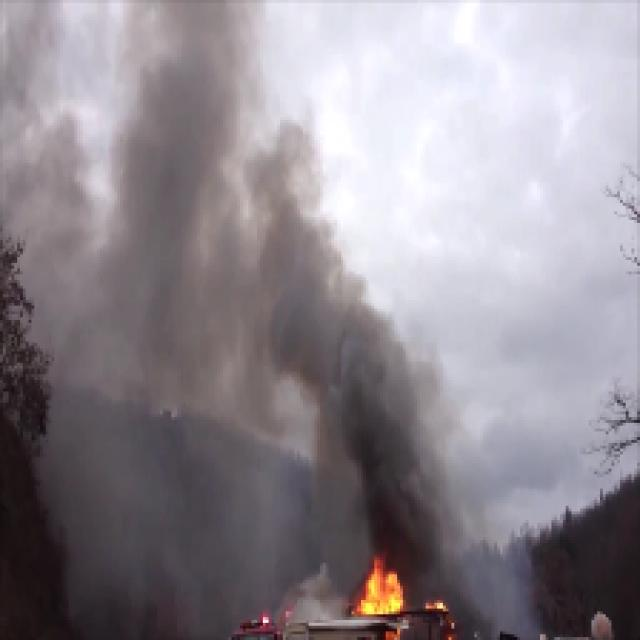fire: (344, 562, 411, 623)
smoke: (36, 10, 254, 517), (274, 134, 451, 552)
